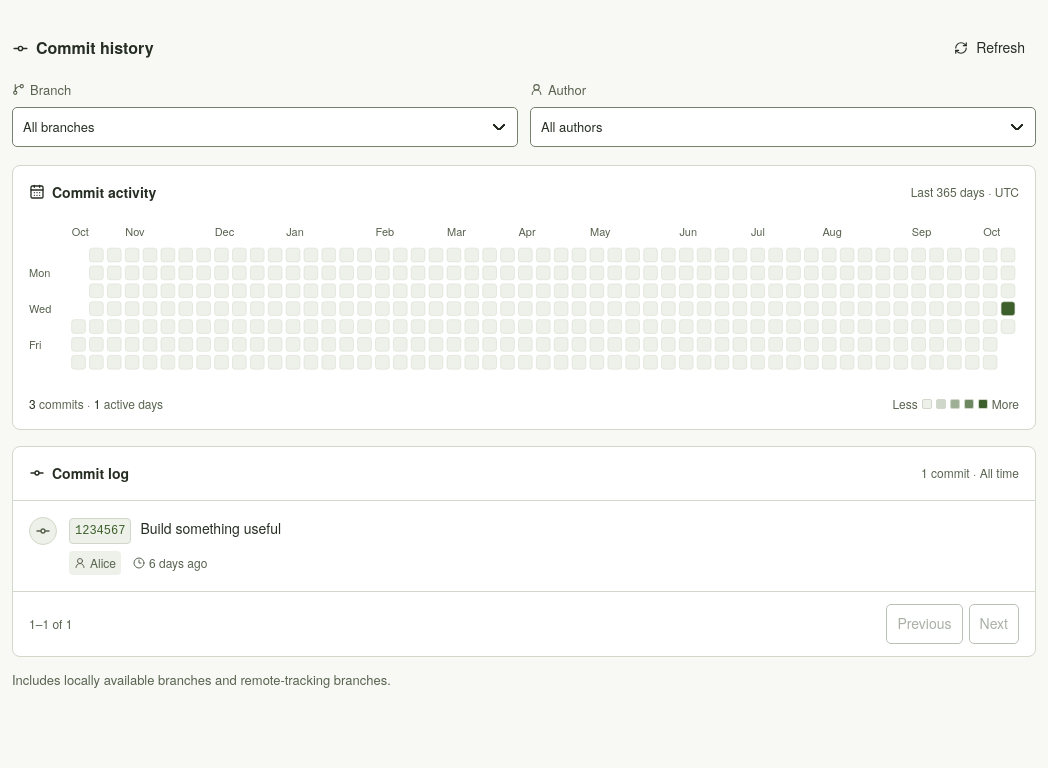
Test: project commit history › ignores responses from older filter requests
Check: the text "Build something useful" is shown, box [140,517,281,539]
Select "Alice <alice@example.com>" in the dropdown labelled "Author": (783,126) [530,106,1036,146]
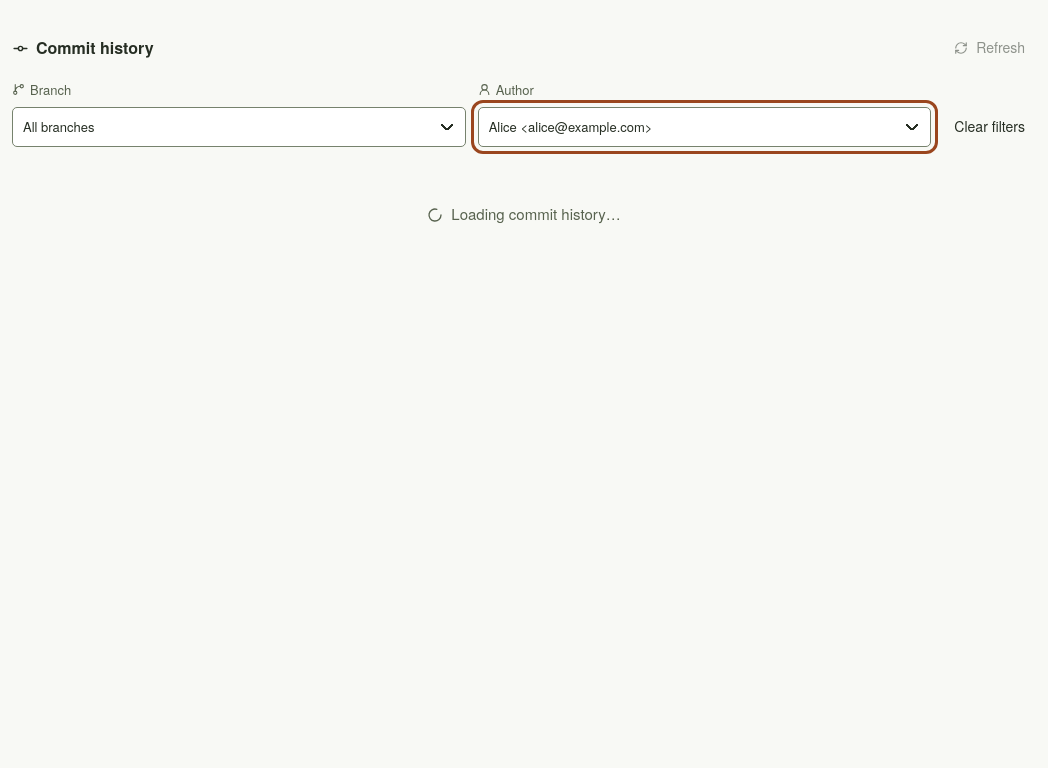
Check: the heading "Commit log" is gone
Select "Bob <bob@example.com>" in the dropdown labelled "Author": (705,126) [478,106,931,146]
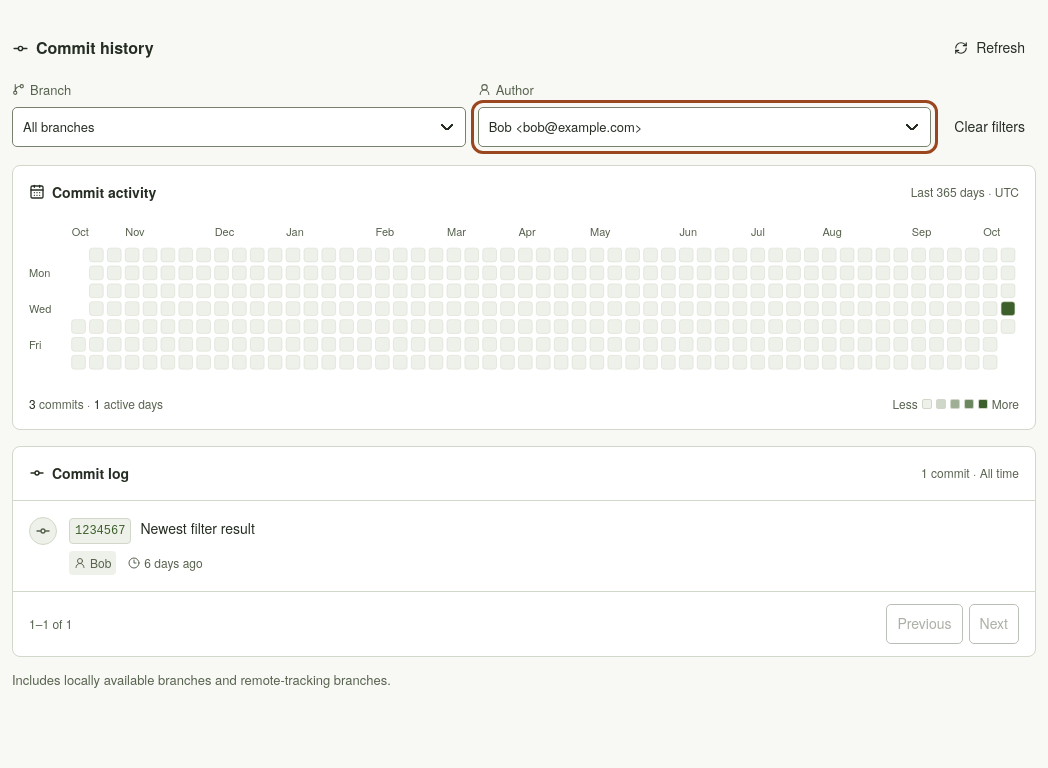
Check: the text "Build something useful" is not shown
Check: the text "Newest filter result" is shown, box [140,517,255,539]
Check: the text "Bob" is shown, box [69,551,116,575]
